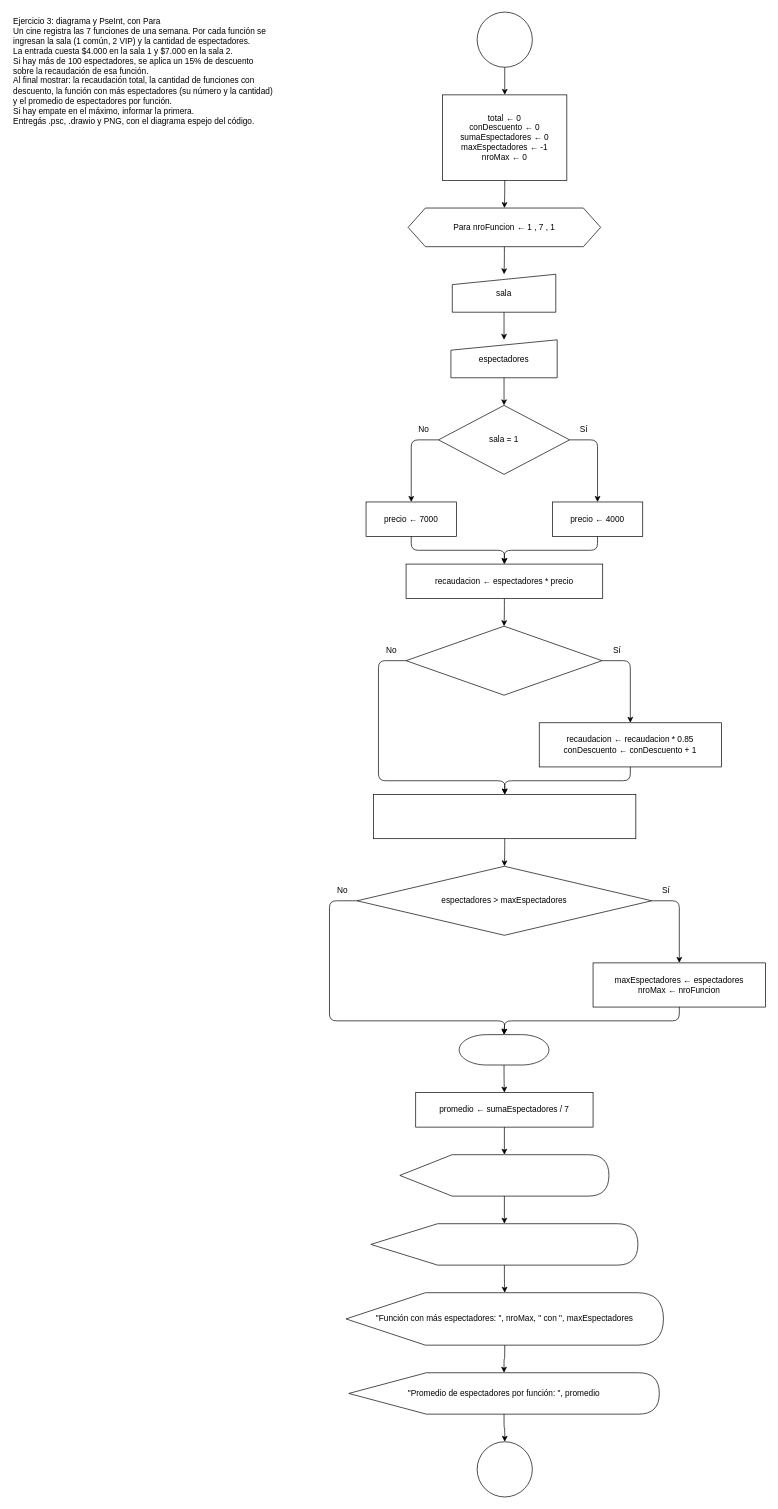
This 778x1509 diagram has some shape labels left out. Each missing label, with the centre of its shape:
"Funciones con descuento: ", conDescuento: [504,1244]
"Recaudación total: $", total: [504,1175]
espectadores > 100: [503,660]
Fin: [504,1469]
Fin (Para): [504,1049]
Inicio: [504,39]
total ← total + recaudacion sumaEspectadores ← sumaEspectadores + espectadores: [504,816]
